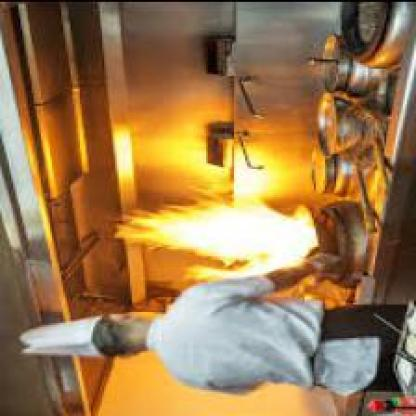Fire: (122, 206, 316, 273)
